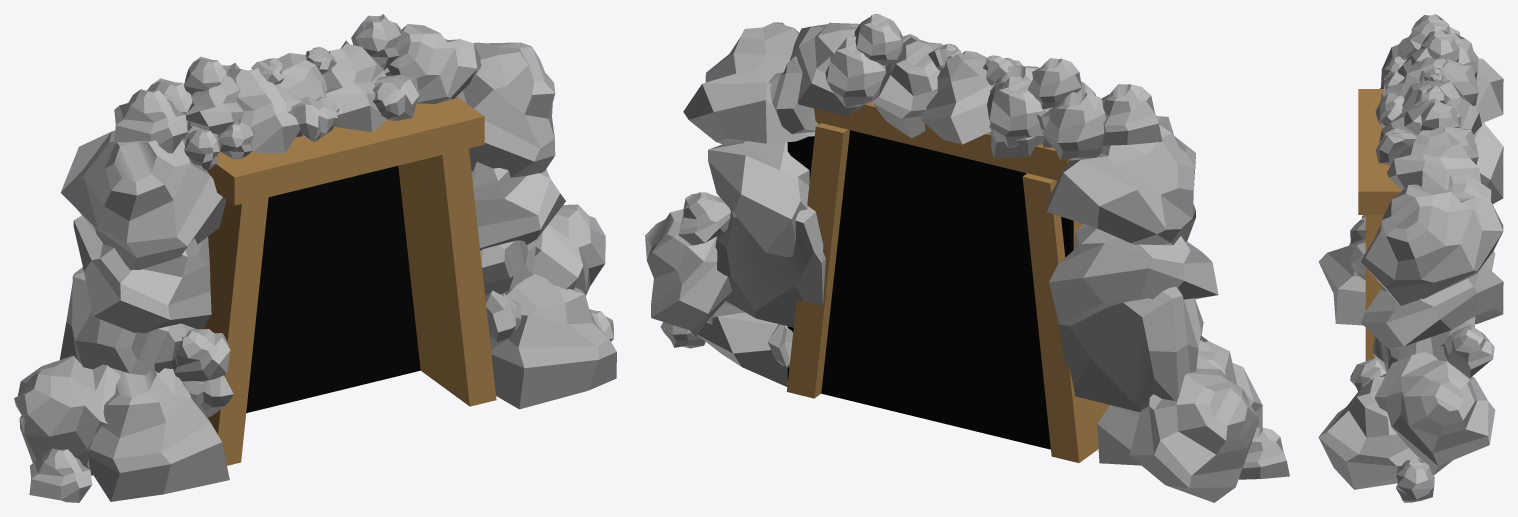
The model's file is entreeMine.fbx.
3 views of the same model, side by side, from view 1: azimuth 30°, elevation 25°; view 2: azimuth 150°, elevation 25°; view 3: azimuth 270°, elevation 25° (orthographic). The views are drawn at different scales.
Parts seen in each view (by area): view 1: entreeMine; view 2: entreeMine; view 3: entreeMine.
Part boxes in pixels (x1,y1,x2,y2): entreeMine: (14,14,616,502); entreeMine: (645,14,1289,502); entreeMine: (1318,14,1503,502).
Bounding box in the file's own units: 1348 × 857 × 434.
